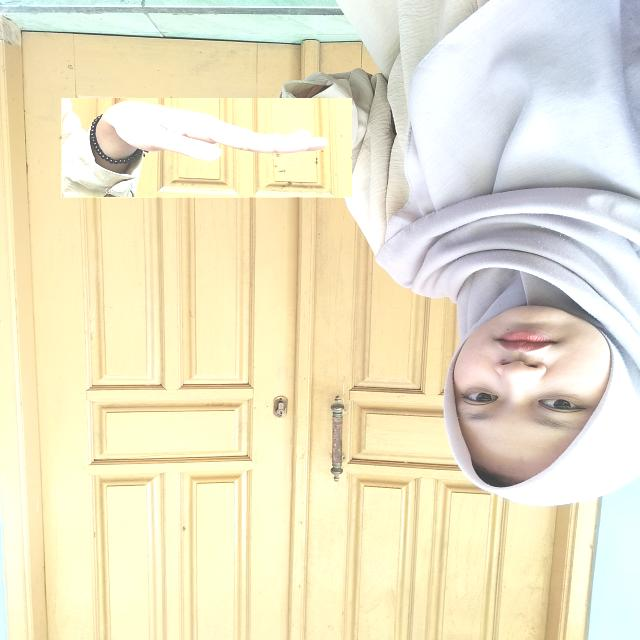adik: (61, 98, 352, 198)
